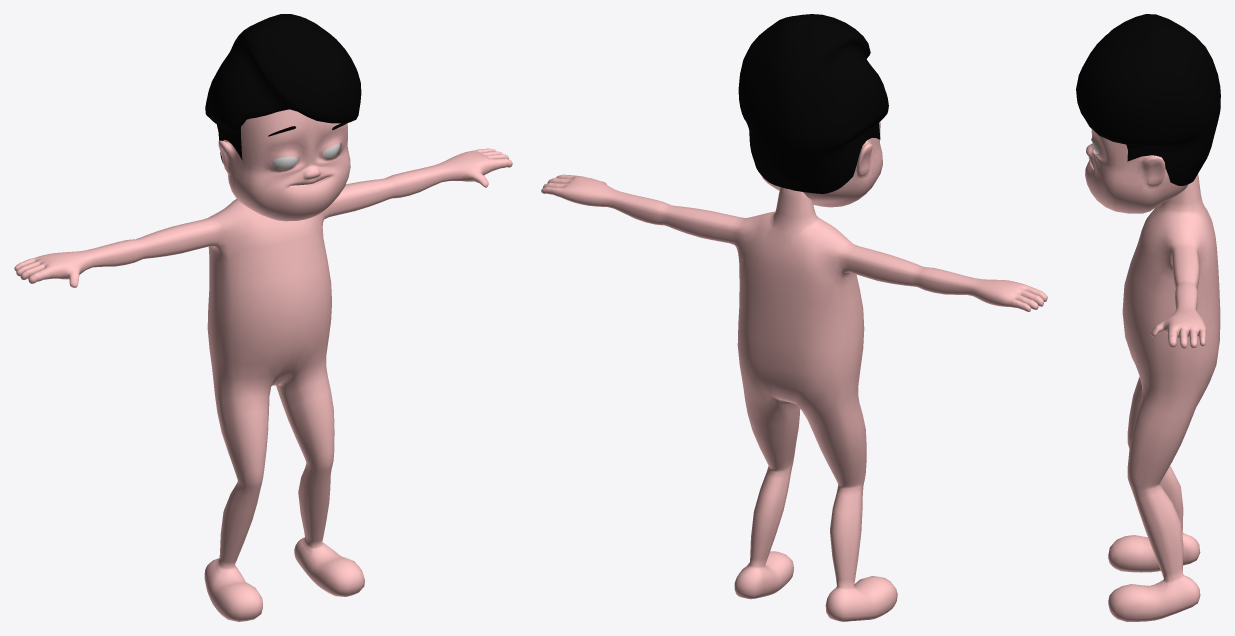
Rendered from downboyv2.FBX.
3 renders of one model, left to right at view 1: azimuth 30°, elevation 25°; view 2: azimuth 150°, elevation 25°; view 3: azimuth 270°, elevation 25°, orthographic. The views are drawn at different scales.
Visible parts, largest first — view 1: Person; view 2: Person; view 3: Person.
Part boxes in pixels (bbox=[...]): Person: bbox=[14, 14, 512, 621]; Person: bbox=[541, 14, 1047, 621]; Person: bbox=[1076, 14, 1220, 621].
Size of the model in its own units: 1.28 by 0.3324 by 1.44.
